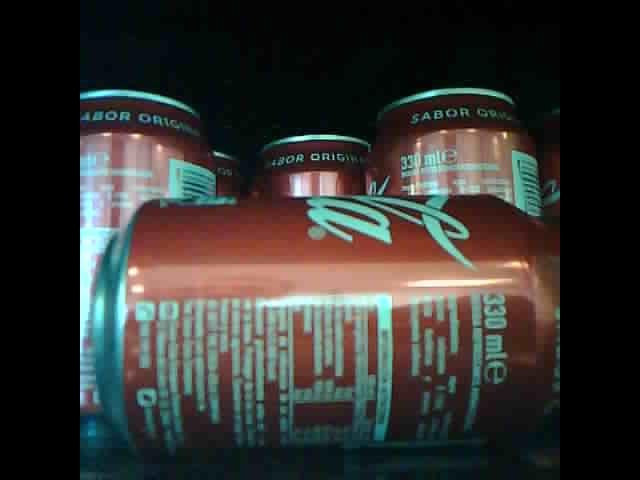coca cola: (99, 191, 561, 446), (79, 86, 221, 417), (381, 84, 543, 226), (249, 132, 371, 202), (207, 147, 245, 204)
